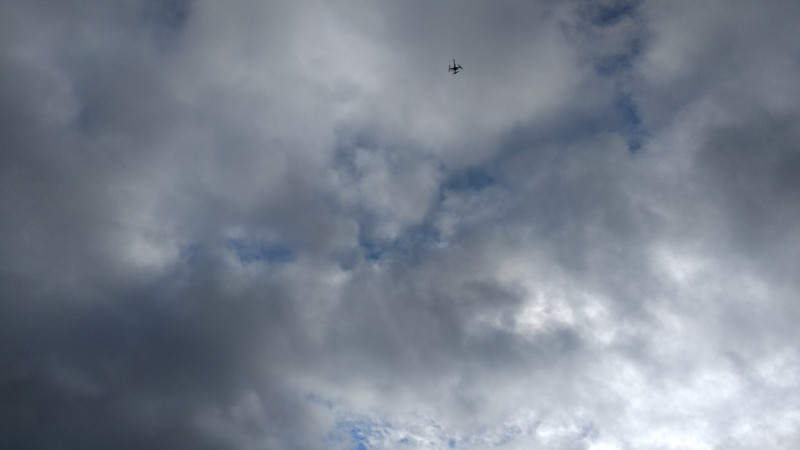drone: (448, 60, 464, 75)
